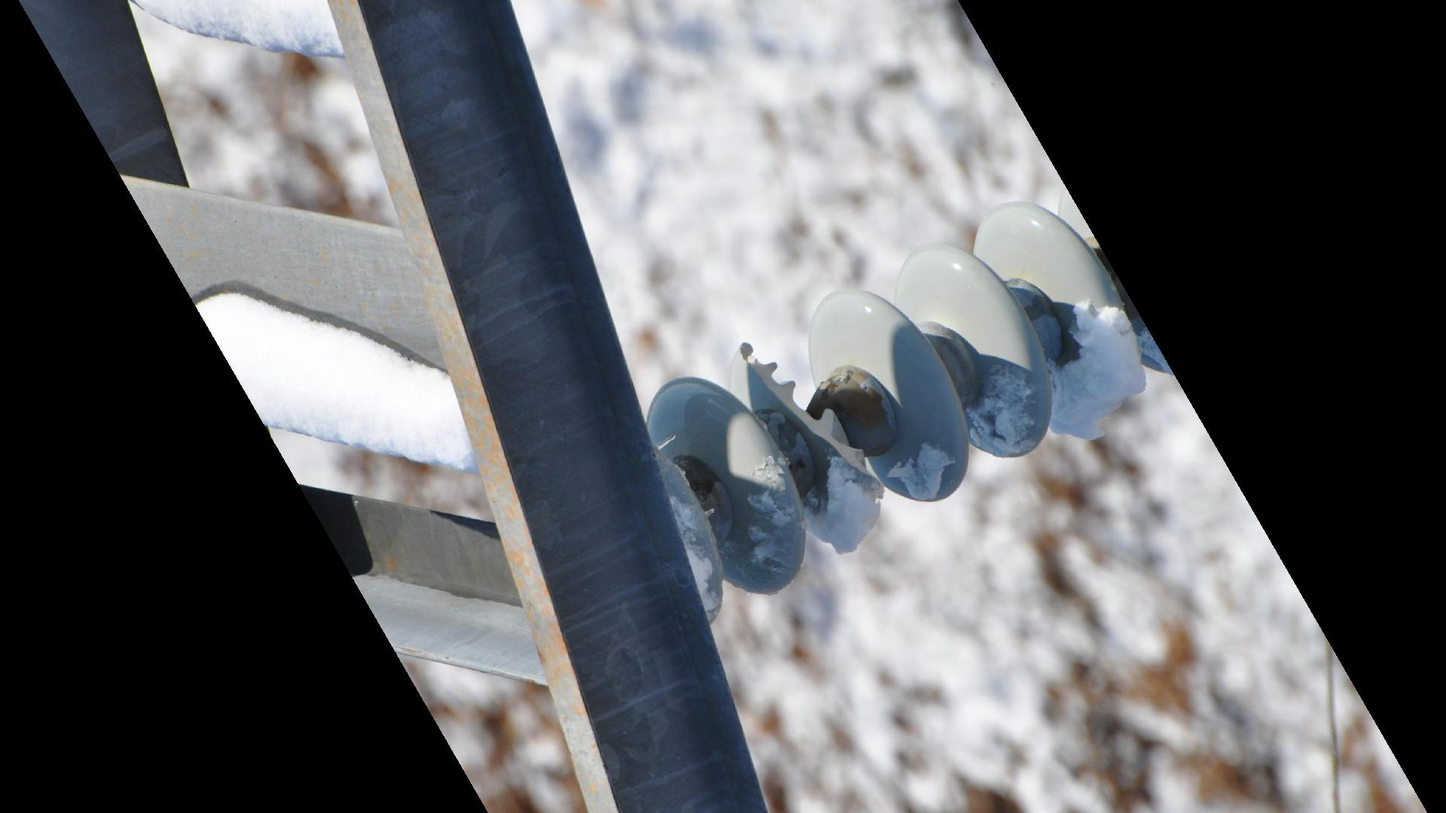insulator: (642, 179, 1180, 636)
insulator_breakage: (732, 339, 888, 495)
